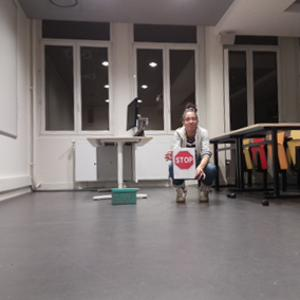stop: (174, 149, 193, 170)
